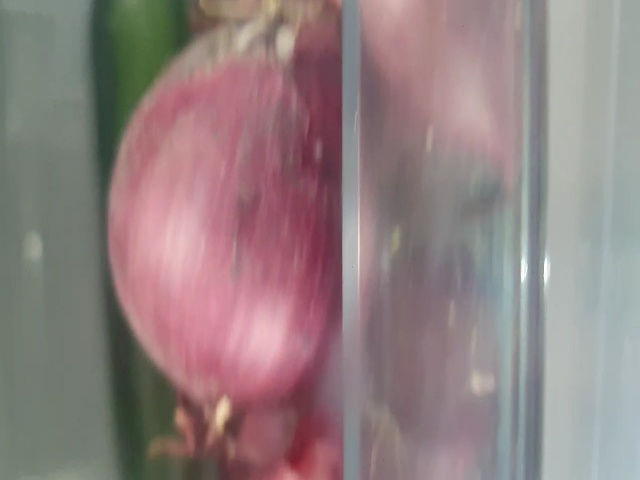red_onion: (104, 1, 345, 434)
